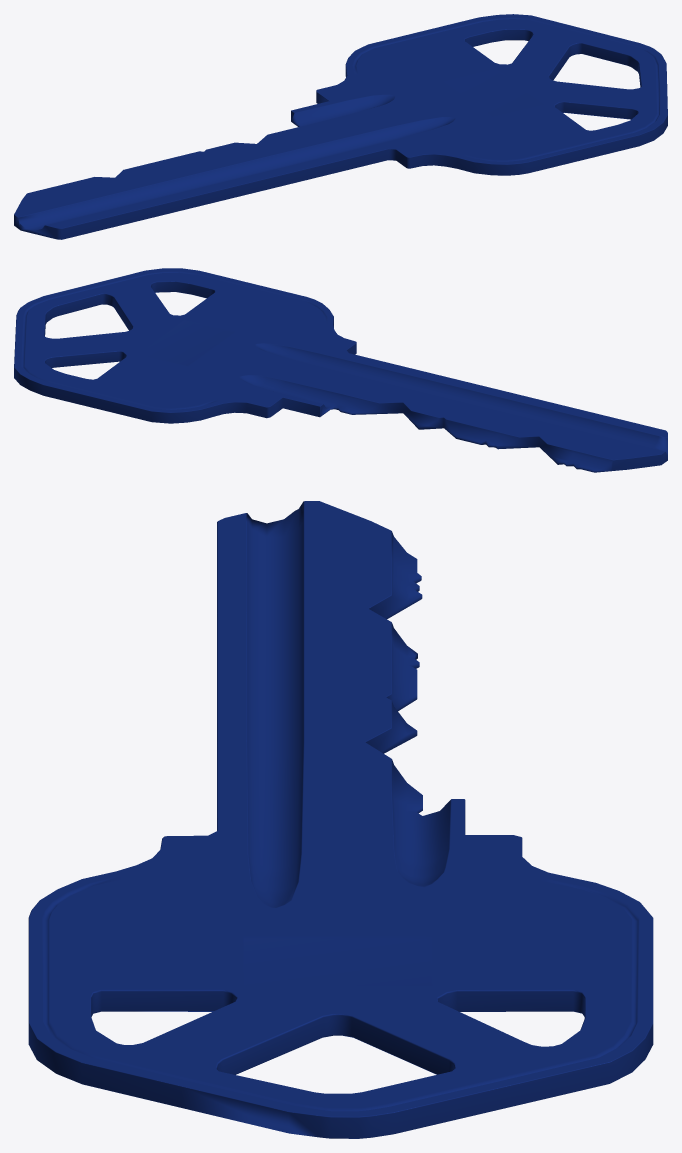
The model's file is FileKey.fbx.
The picture shows the model from 3 angles, top to bottom: view 1: azimuth 30°, elevation 25°; view 2: azimuth 150°, elevation 25°; view 3: azimuth 270°, elevation 25°; orthographic projection. The views are drawn at different scales.
Parts seen in each view (by area): view 1: Key_002_Lo; view 2: Key_002_Lo; view 3: Key_002_Lo.
Boxes of the visible parts, x1,y1,x2,y2 form: Key_002_Lo: (14,14,667,239); Key_002_Lo: (14,268,667,472); Key_002_Lo: (28,501,653,1138).
Size of the model in its own units: 8.92 by 3.82 by 0.1498.
